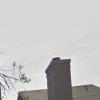Chimney: (37, 48, 80, 100)
